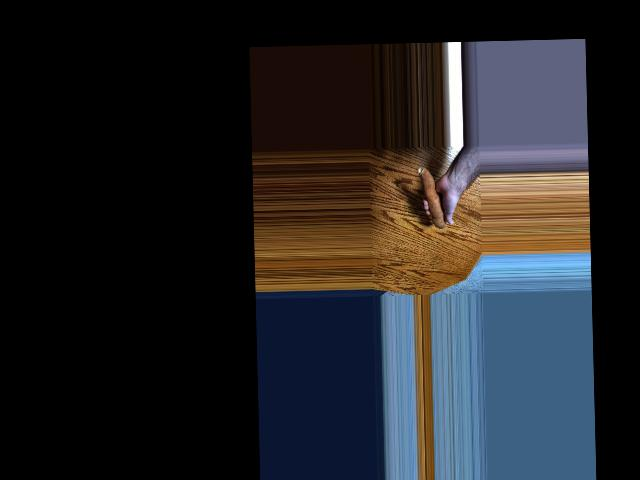sweet_potato: (427, 166, 445, 230)
